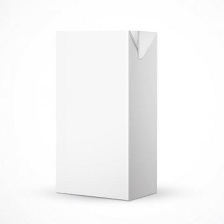carton: (52, 27, 169, 205)
